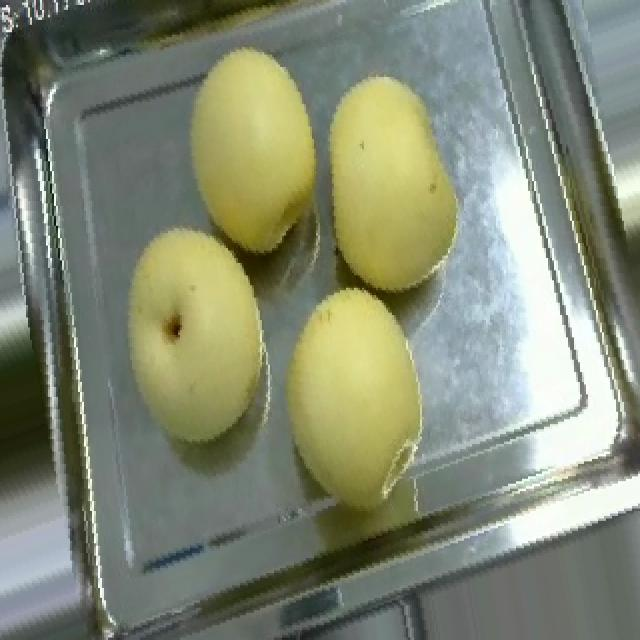Fruit: (248, 266, 458, 528), (98, 206, 288, 469), (298, 50, 484, 312), (162, 22, 338, 278)
